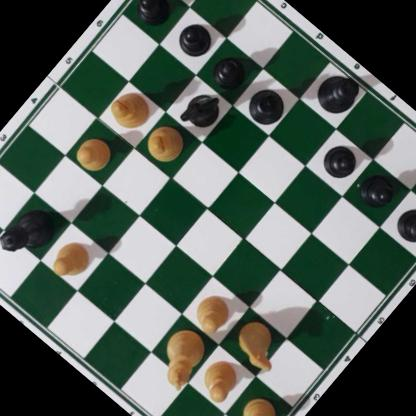black-bishop: (239, 81, 293, 134)
black-king: (308, 62, 367, 122)
black-knight: (175, 83, 229, 138)
black-pawn: (354, 166, 402, 215), (318, 136, 365, 184), (207, 48, 254, 95), (172, 15, 218, 62), (131, 0, 178, 29), (390, 199, 416, 250)
black-queen: (0, 195, 63, 268)
white-bishop: (103, 84, 157, 137), (139, 117, 192, 170)
white-king: (145, 320, 216, 393)
white-knight: (229, 315, 291, 377)
white-pawn: (192, 353, 246, 408), (45, 233, 97, 286), (187, 287, 239, 339), (68, 128, 119, 179), (234, 390, 286, 416)
